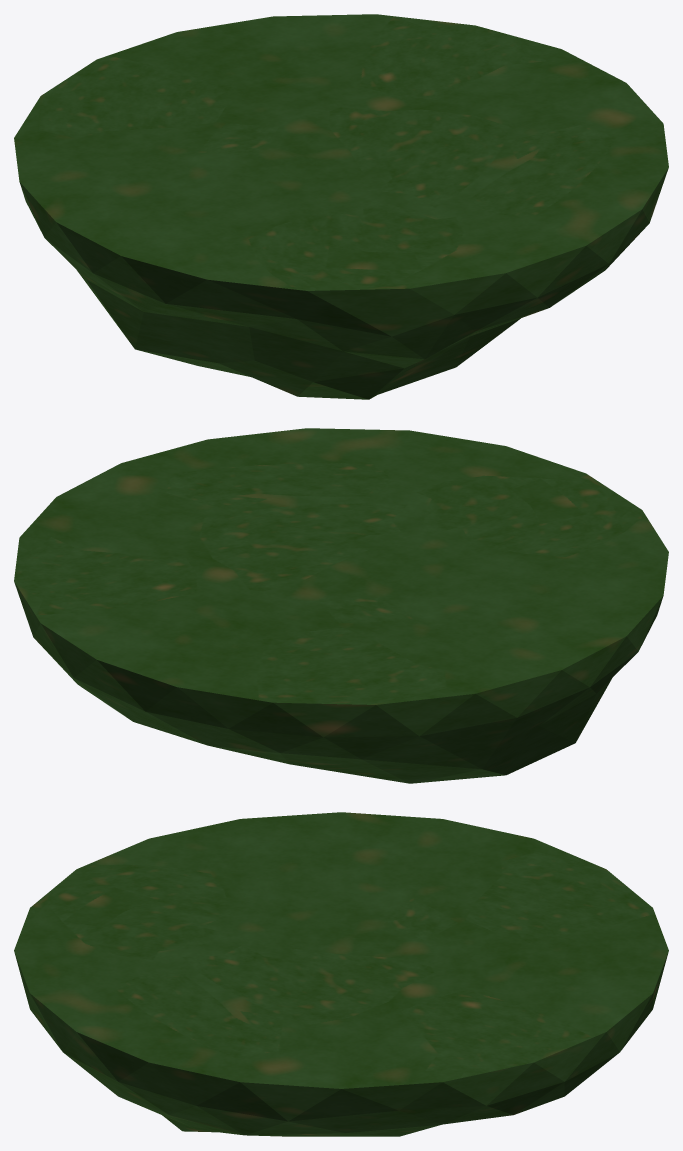
The model's file is island.fbx.
3 renders of one model, top to bottom at view 1: azimuth 30°, elevation 25°; view 2: azimuth 150°, elevation 25°; view 3: azimuth 270°, elevation 25°, orthographic.
Parts seen in each view (by area): view 1: Icosphere.001; view 2: Icosphere.001; view 3: Icosphere.001.
Part boxes in pixels (box(x1,y1,x2,y2)): Icosphere.001: box(14, 14, 668, 399); Icosphere.001: box(14, 428, 668, 783); Icosphere.001: box(14, 812, 668, 1136).
Bounding box in the file's own units: 1244 × 370 × 1244.
Materials: 1 (1 with a texture image).
